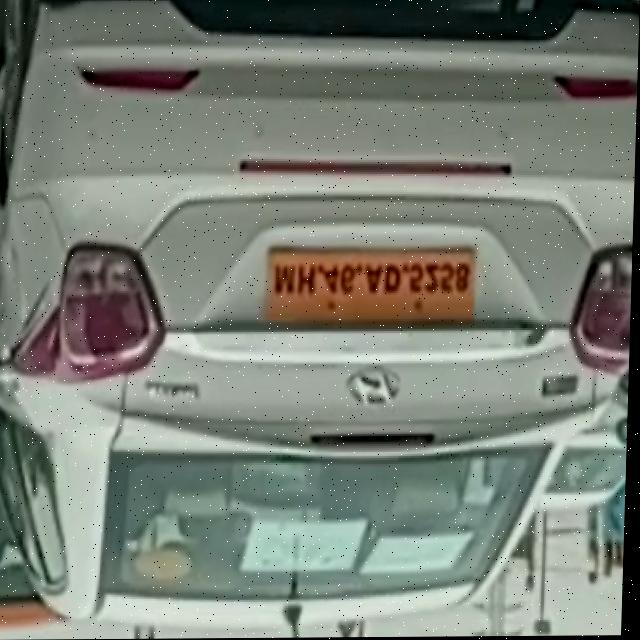plate: (254, 235, 495, 329)
